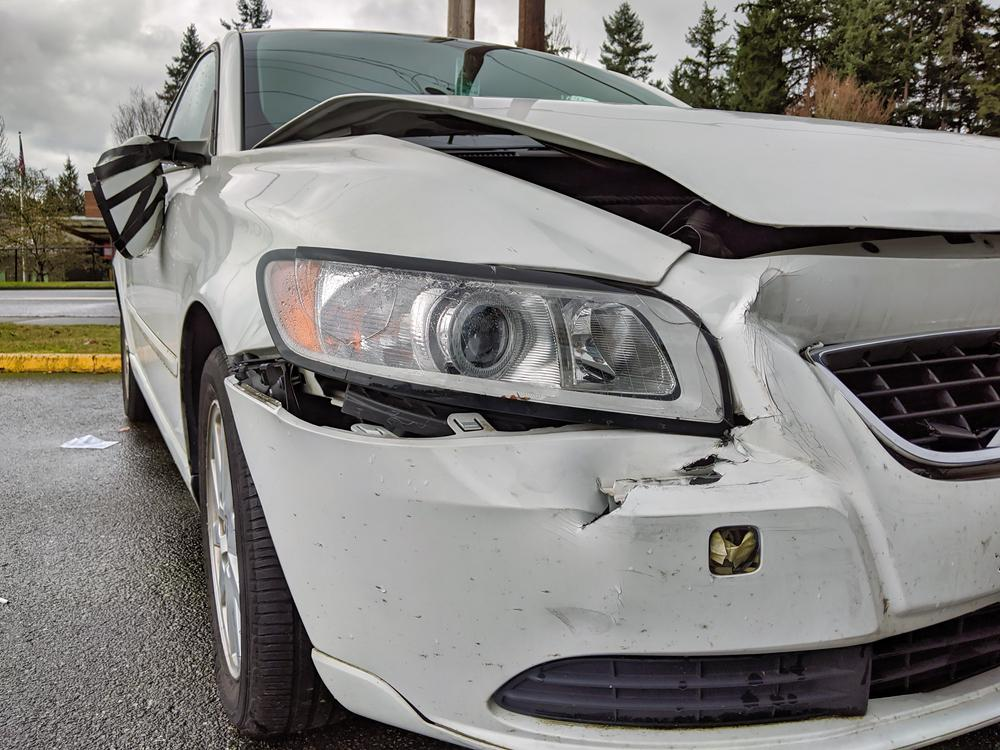crack: (581, 440, 742, 529)
dent: (744, 271, 852, 471), (560, 445, 612, 526)
lamp broken: (260, 256, 725, 427)
